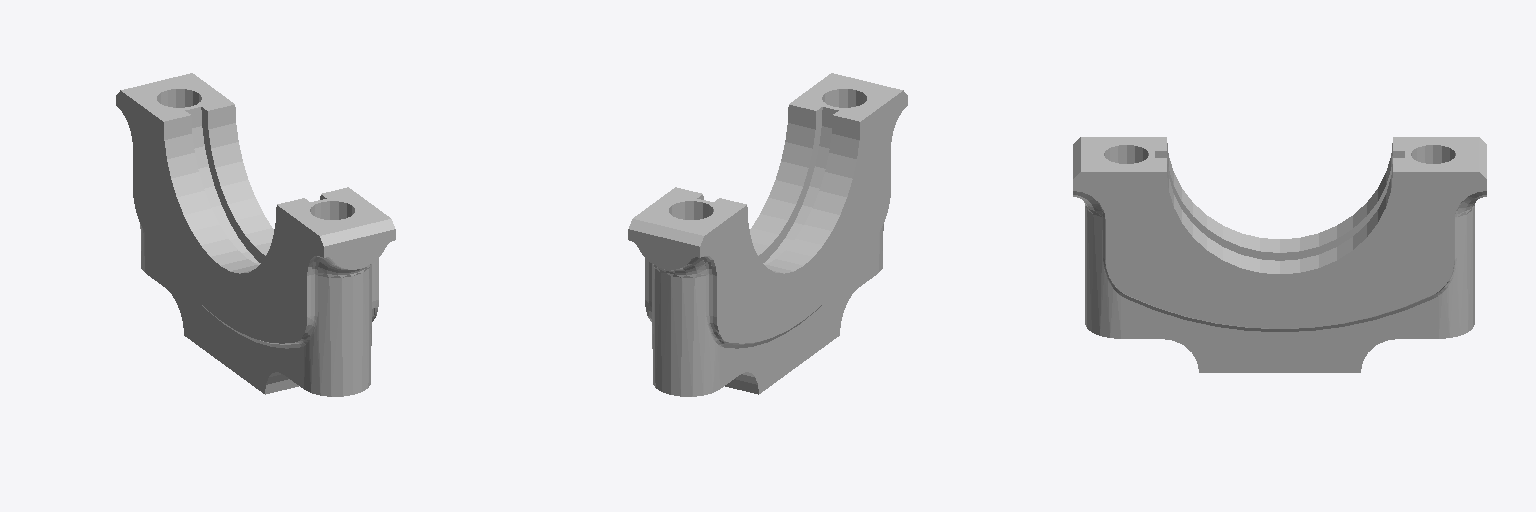
The model's file is Крышка шатунного подшипника.obj.
3 views of the same model, side by side, from view 1: azimuth 30°, elevation 25°; view 2: azimuth 150°, elevation 25°; view 3: azimuth 270°, elevation 25° (orthographic).
Parts seen in each view (by area): view 1: Крышка_коренного_подшипника; view 2: Крышка_коренного_подшипника; view 3: Крышка_коренного_подшипника.
Boxes of the visible parts, x1,y1,x2,y2 form: Крышка_коренного_подшипника: [116, 73, 395, 396]; Крышка_коренного_подшипника: [628, 73, 907, 396]; Крышка_коренного_подшипника: [1073, 137, 1486, 372].
Size of the model in its own units: 20 by 54 by 100.